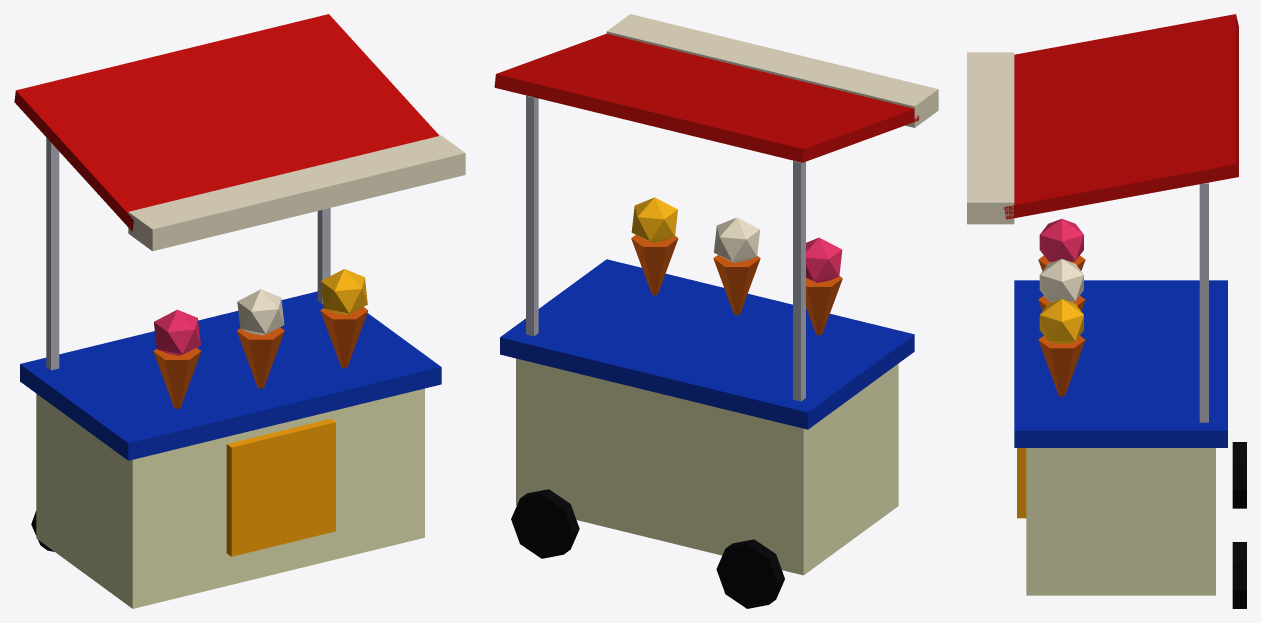
The model's file is ice_cream_cart.obj.
The picture shows the model from 3 angles, left to right: view 1: azimuth 30°, elevation 25°; view 2: azimuth 150°, elevation 25°; view 3: azimuth 270°, elevation 25°; orthographic projection.
Parts seen in each view (by area): view 1: ice_cream_cart; view 2: ice_cream_cart; view 3: ice_cream_cart.
Boxes of the visible parts, x1=… form: ice_cream_cart: x1=14, y1=14, x2=465, y2=608; ice_cream_cart: x1=494, y1=14, x2=938, y2=608; ice_cream_cart: x1=967, y1=14, x2=1246, y2=608.
Bounding box in the file's own units: 1.5 × 2.18 × 1.18.
